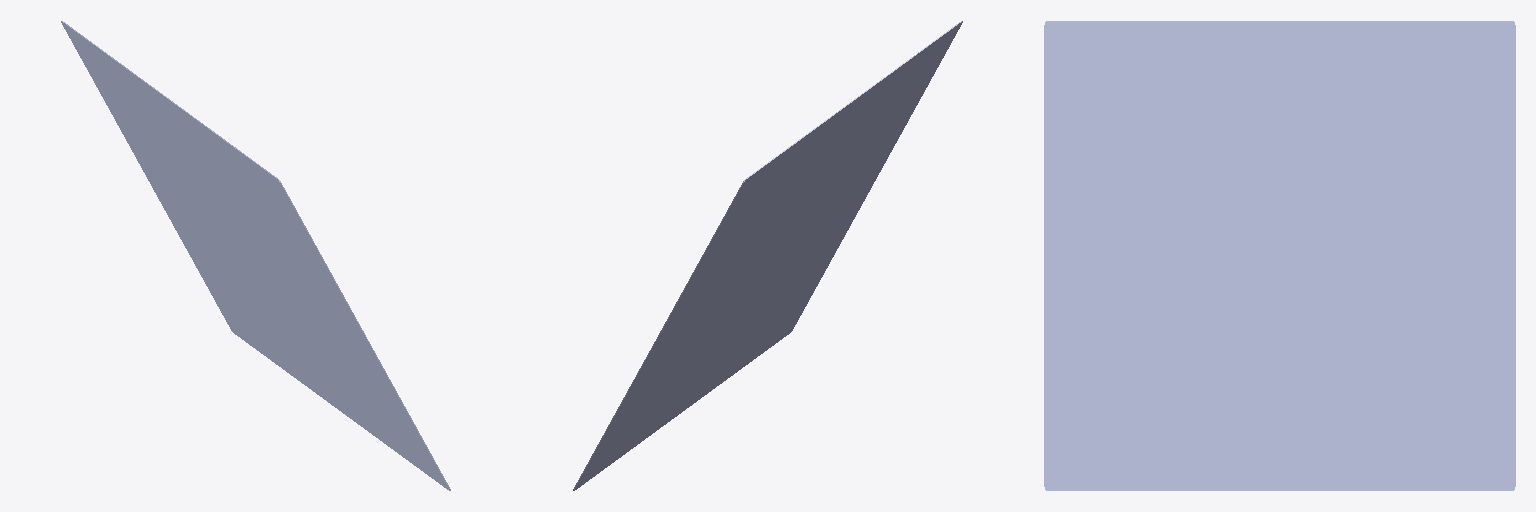
URDF robot description (stretch_docking_station_description):
<?xml version="1.0" encoding="utf-8"?>
<!-- This URDF was automatically created by SolidWorks to URDF Exporter! Originally created by [author] ([email redacted]) 
     Commit Version: 1.5.1-0-g916b5db  Build Version: 1.5.7152.31018
     For more information, please see http://wiki.ros.org/sw_urdf_exporter -->
<robot
  name="stretch_docking_station_description">
  <link
    name="link_docking_base">
    <inertial>
      <origin
        xyz="-0.254149269932309 3.81515530082815E-06 0.0672165786884313"
        rpy="0 0 0" />
      <mass
        value="0.386736435737988" />
      <inertia
        ixx="0.00265206591275721"
        ixy="1.75248831755847E-09"
        ixz="0.000319192136882331"
        iyy="0.00232187105372072"
        iyz="8.0314675465915E-10"
        izz="0.00203196118859968" />
    </inertial>
    <visual>
      <origin
        xyz="0 0 0"
        rpy="0 0 0" />
      <geometry>
        <mesh
          filename="package://stretch_docking_station_description/meshes/link_docking_base.STL" />
      </geometry>
      <material
        name="">
        <color
          rgba="0.792156862745098 0.819607843137255 0.933333333333333 1" />
      </material>
    </visual>
    <collision>
      <origin
        xyz="0 0 0"
        rpy="0 0 0" />
      <geometry>
        <mesh
          filename="package://stretch_docking_station_description/meshes/link_docking_base.STL" />
      </geometry>
    </collision>
  </link>
  <link
    name="link_docking_aruco">
    <inertial>
      <origin
        xyz="1.56271649537788E-16 5.27355936696949E-16 0.000122474626779404"
        rpy="0 0 0" />
      <mass
        value="0.00296244147835488" />
      <inertia
        ixx="3.01013821594583E-06"
        ixy="-6.25106155472466E-21"
        ixz="-1.74011265269227E-22"
        iyy="3.01013821594584E-06"
        iyz="1.05879118406788E-22"
        izz="6.02024675804039E-06" />
    </inertial>
    <visual>
      <origin
        xyz="0 0 0"
        rpy="0 0 0" />
      <geometry>
        <mesh
          filename="package://stretch_docking_station_description/meshes/link_docking_aruco.STL" />
      </geometry>
      <material
        name="">
        <color
          rgba="0.792156862745098 0.819607843137255 0.933333333333333 1" />
      </material>
    </visual>
    <collision>
      <origin
        xyz="0 0 0"
        rpy="0 0 0" />
      <geometry>
        <mesh
          filename="package://stretch_docking_station_description/meshes/link_docking_aruco.STL" />
      </geometry>
    </collision>
  </link>
  <joint
    name="joint_docking_aruco"
    type="fixed">
    <origin
      xyz="-0.326626467133239 0 0.205139862987062"
      rpy="-1.09955742875643 0 -1.5707963267949" />
    <parent
      link="link_docking_base" />
    <child
      link="link_docking_aruco" />
    <axis
      xyz="0 0 0" />
  </joint>
</robot>

--- Render facts (derived) ---
The picture shows the robot from 3 angles, left to right: view 1: azimuth 30°, elevation 25°; view 2: azimuth 150°, elevation 25°; view 3: azimuth 270°, elevation 25°; orthographic projection.
Robot: stretch_docking_station_description — 2 links, 1 joints (1 fixed); root link link_docking_base; default pose: all joints at 0.
Links seen in each view (by area): view 1: link_docking_aruco; view 2: link_docking_aruco; view 3: link_docking_aruco.
Link boxes in pixels (box(x1,y1,x2,y2)): link_docking_aruco: box(61, 21, 450, 490); link_docking_aruco: box(573, 21, 962, 490); link_docking_aruco: box(1044, 21, 1515, 490).
Size in the robot's own frame: 0.0502 by 0.11 by 0.0981 metres.
Meshes: 2 distinct files referenced, 1 mesh visuals loaded (1 binary STL); not drawn: 1 (reference not matched to a file when rendering).